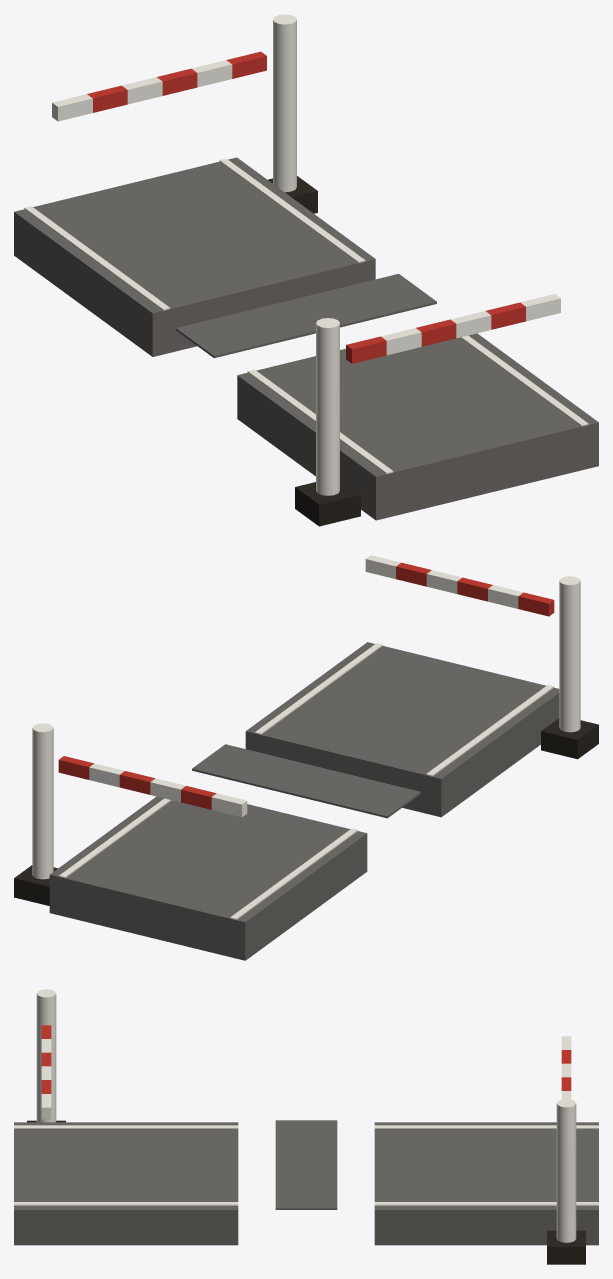
Rendered from level-crossing.glb.
The picture shows the model from 3 angles, top to bottom: view 1: azimuth 30°, elevation 25°; view 2: azimuth 150°, elevation 25°; view 3: azimuth 270°, elevation 25°; orthographic projection. The views are drawn at different scales.
Parts seen in each view (by area): view 1: road, white, red, black; view 2: road, white, red, black; view 3: road, white, black, red.
Part boxes in pixels (x1,y1,x2,y2): road: [14, 157, 598, 520]; white: [24, 14, 588, 495]; red: [87, 51, 525, 363]; black: [268, 176, 360, 526]; road: [49, 642, 559, 960]; white: [32, 555, 580, 919]; red: [58, 562, 554, 809]; black: [14, 718, 598, 905]; road: [14, 1120, 598, 1245]; white: [14, 989, 598, 1242]; black: [27, 1120, 585, 1264]; red: [41, 1025, 571, 1093].
Size of the model in its own units: 92 by 52 by 180.
